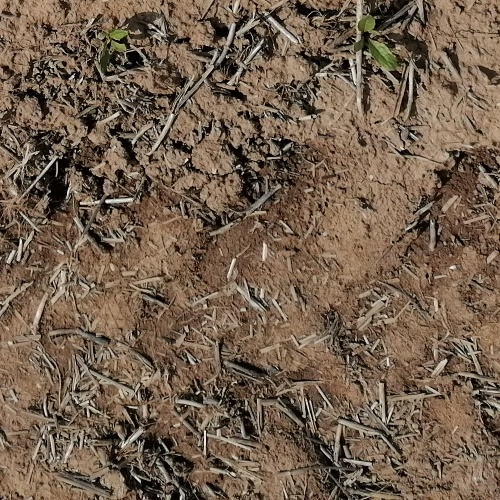beet: (354, 13, 398, 70), (93, 30, 130, 61)
